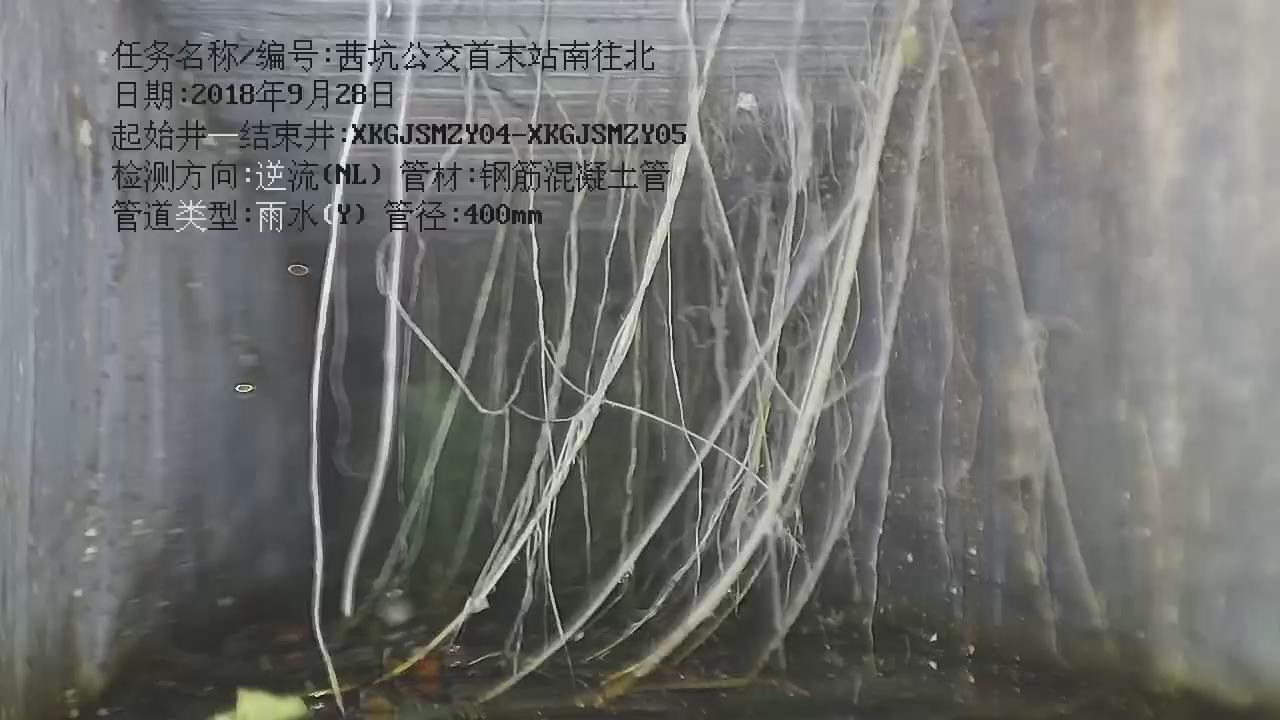SG: (106, 0, 1104, 715)
